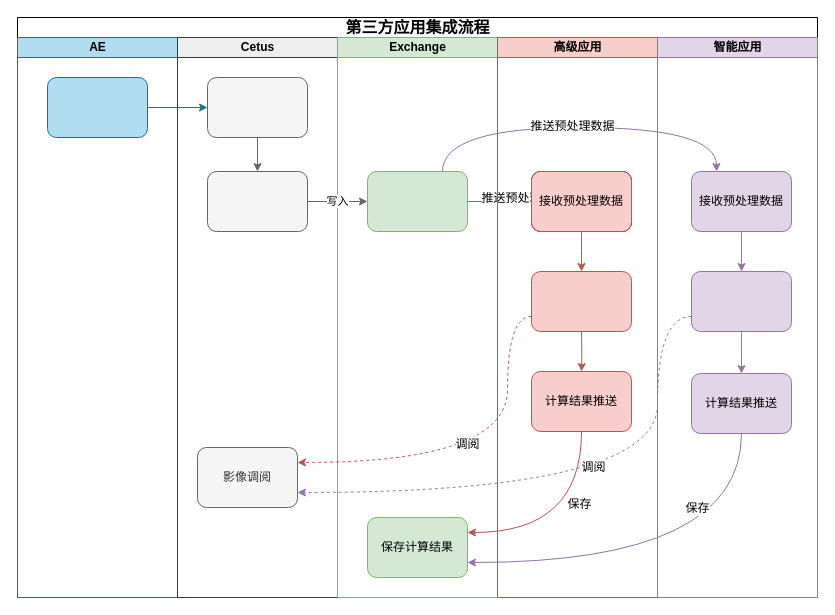
Some shapes in this 835 by 615 pixel diagram are drawn without their labels. Here are the shapes that lost their labels. From the top down, the centre of each, then its label:
(97,107): 设备拍片
(257,107): 影像归档
(257,201): 产生归档消息
(417,201): 接收归档消息
(581,301): 高级应用计算
(741,301): 智能应用计算
